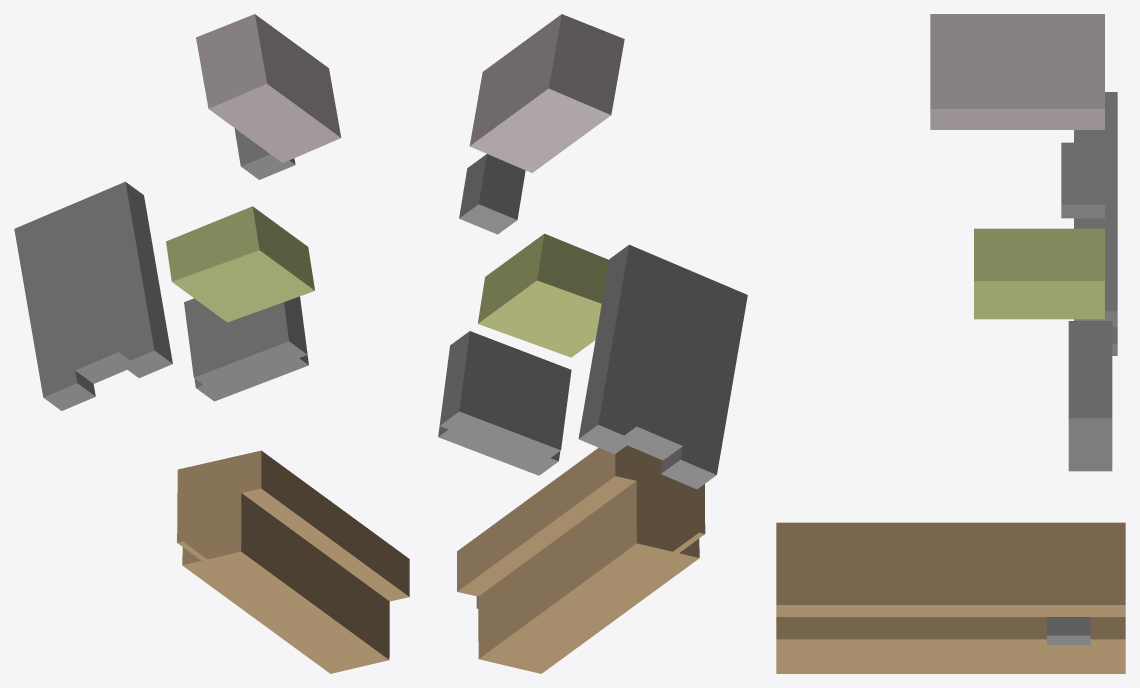
3 renders of one model, left to right at view 1: azimuth 30°, elevation 25°; view 2: azimuth 150°, elevation 25°; view 3: azimuth 270°, elevation 25°, orthographic. The views are drawn at different scales.
Parts seen in each view (by area): view 1: 0_2_3_3_3_0_2_3_1; view 2: 0_2_3_3_3_0_2_3_1; view 3: 0_2_3_3_3_0_2_3_1.
Boxes of the visible parts, x1,y1,x2,y2 form: 0_2_3_3_3_0_2_3_1: (14,14,409,673); 0_2_3_3_3_0_2_3_1: (438,14,747,673); 0_2_3_3_3_0_2_3_1: (776,14,1125,673).
Bounding box in the file's own units: 25.6 × 48.45 × 24.
